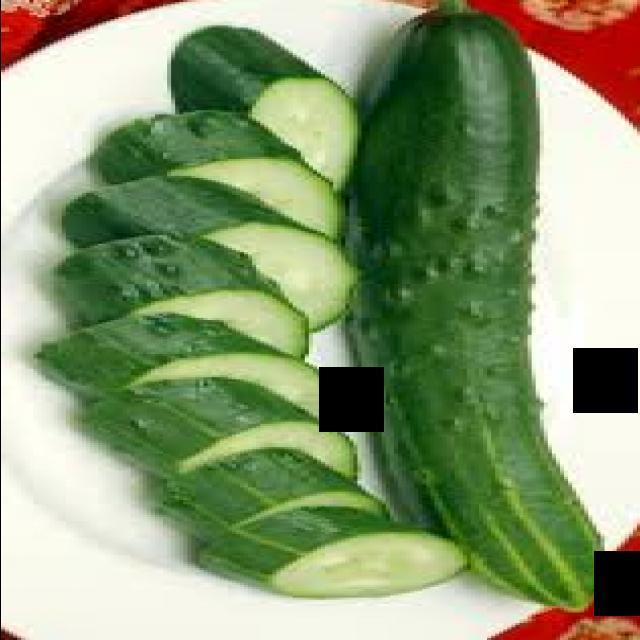cucumber: (39, 13, 496, 615), (336, 0, 624, 623)
